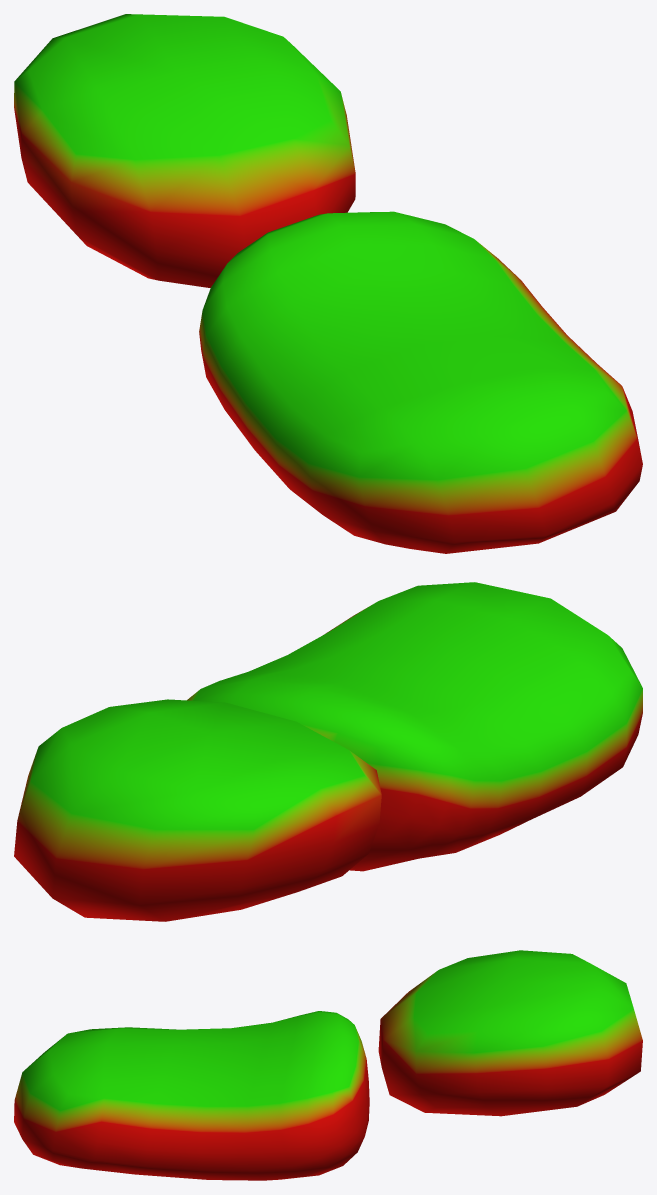
File: Mesa Rocks 1.fbx
3 renders of one model, top to bottom at view 1: azimuth 30°, elevation 25°; view 2: azimuth 150°, elevation 25°; view 3: azimuth 270°, elevation 25°, orthographic. The views are drawn at different scales.
Visible parts, largest first — view 1: Mesa Rocks 1; view 2: Mesa Rocks 1; view 3: Mesa Rocks 1.
Part boxes in pixels (x1=…): Mesa Rocks 1: x1=14, y1=14, x2=642, y2=553; Mesa Rocks 1: x1=14, y1=582, x2=642, y2=921; Mesa Rocks 1: x1=14, y1=950, x2=642, y2=1180.
Bounding box in the file's own units: 586 × 421 × 1413.
